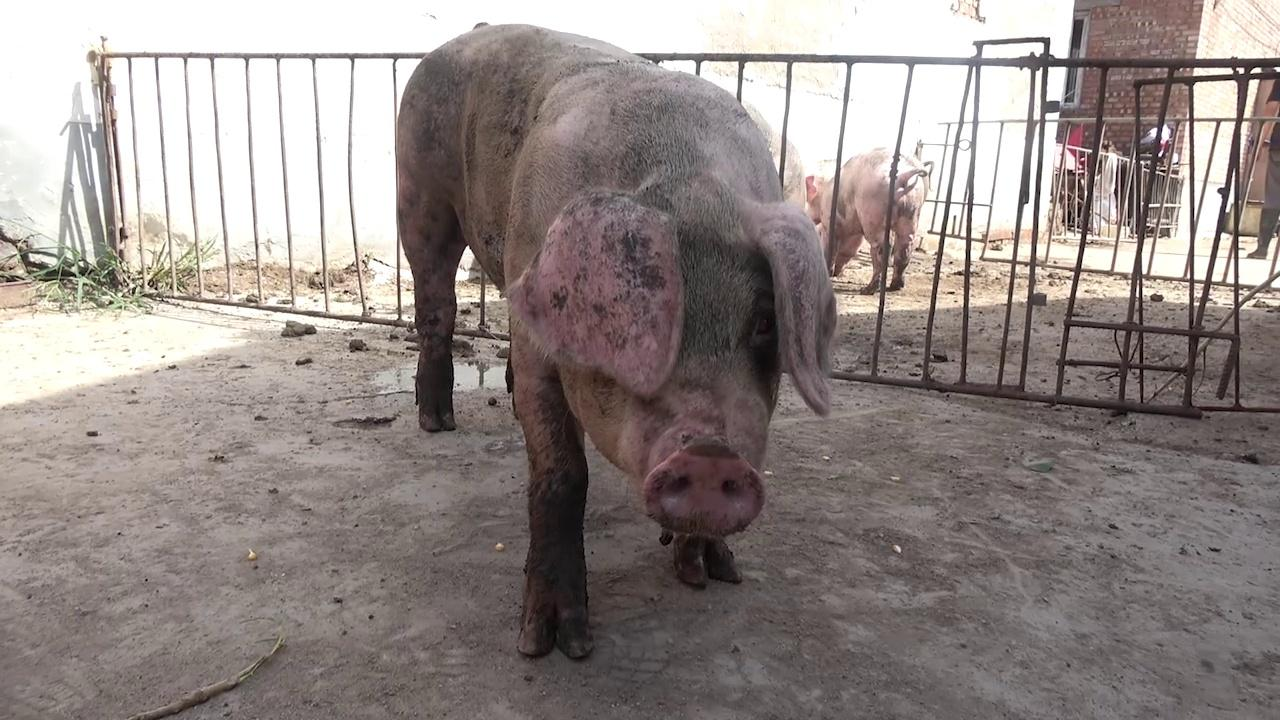Face: (492, 186, 864, 554)
